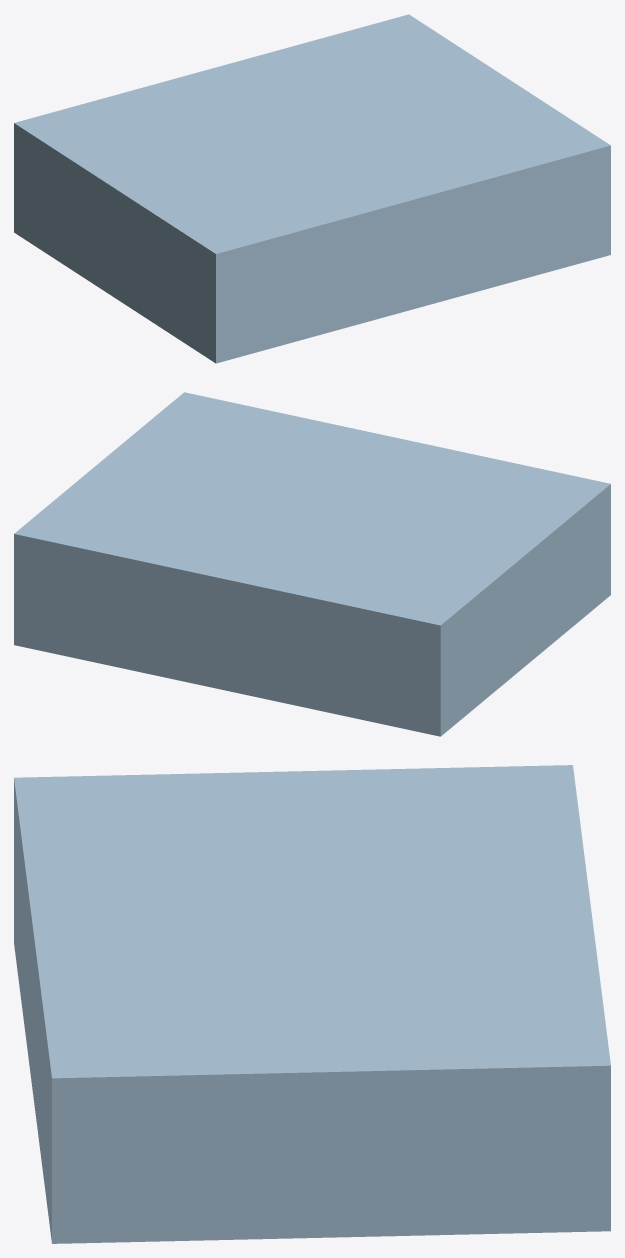
The model's file is osm_way_224954737.glb.
3 renders of one model, top to bottom at view 1: azimuth 30°, elevation 25°; view 2: azimuth 150°, elevation 25°; view 3: azimuth 270°, elevation 25°, orthographic. The views are drawn at different scales.
Visible parts, largest first — view 1: osm_way_224954737; view 2: osm_way_224954737; view 3: osm_way_224954737.
Boxes of the visible parts, x1,y1,x2,y2 form: osm_way_224954737: (14,14,610,363); osm_way_224954737: (14,392,610,736); osm_way_224954737: (14,765,610,1243).
Size of the model in its own units: 30.85 by 7.6 by 24.84.
